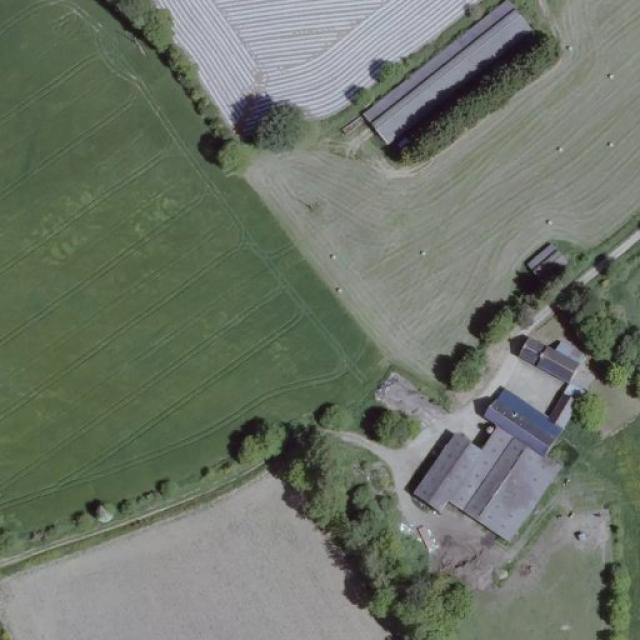ferme: (354, 6, 550, 158), (452, 377, 609, 535), (404, 432, 474, 509), (516, 335, 586, 376), (526, 242, 572, 279)
